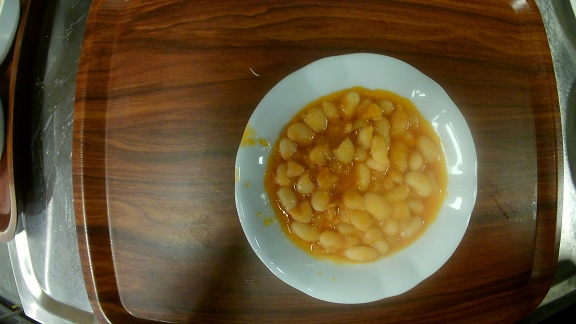kurufasulye: (231, 53, 479, 304)
